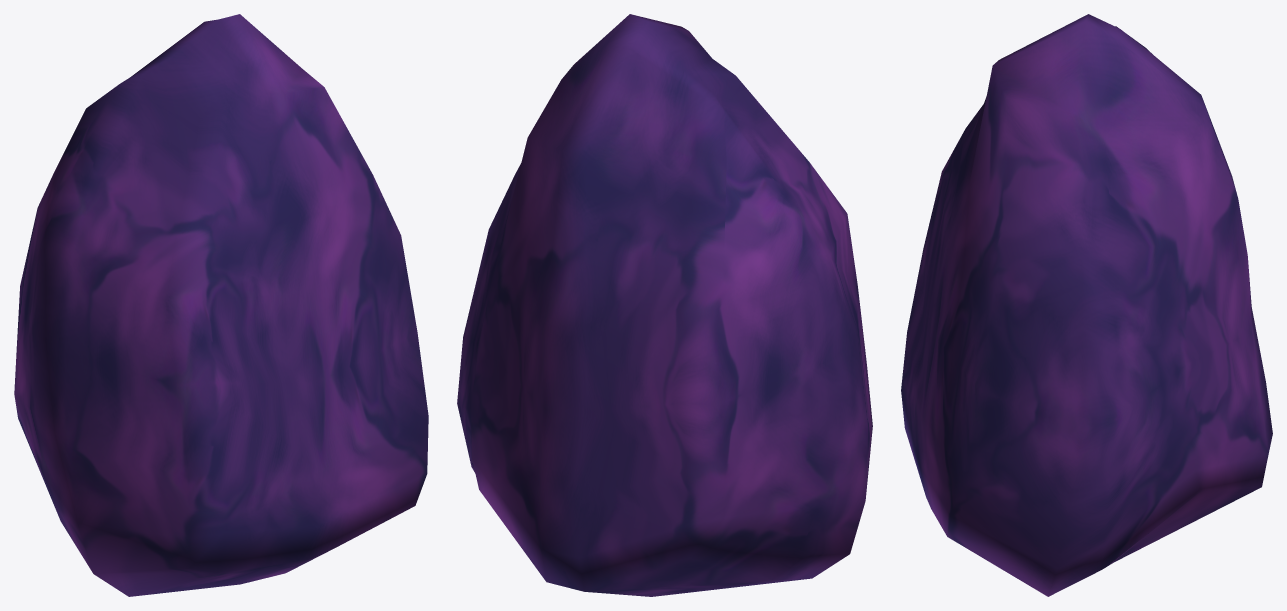
Rendered from BasicMountain1FBX.fbx.
3 views of the same model, side by side, from view 1: azimuth 30°, elevation 25°; view 2: azimuth 150°, elevation 25°; view 3: azimuth 270°, elevation 25° (orthographic). The views are drawn at different scales.
Parts seen in each view (by area): view 1: pCube1; view 2: pCube1; view 3: pCube1.
Boxes of the visible parts, box(x1,y1,x2,y2) form: pCube1: box(14, 14, 428, 596); pCube1: box(457, 14, 872, 596); pCube1: box(901, 14, 1272, 596).
Bounding box in the file's own units: 48.04 × 70.51 × 43.53.
1 material, 1 textured.
